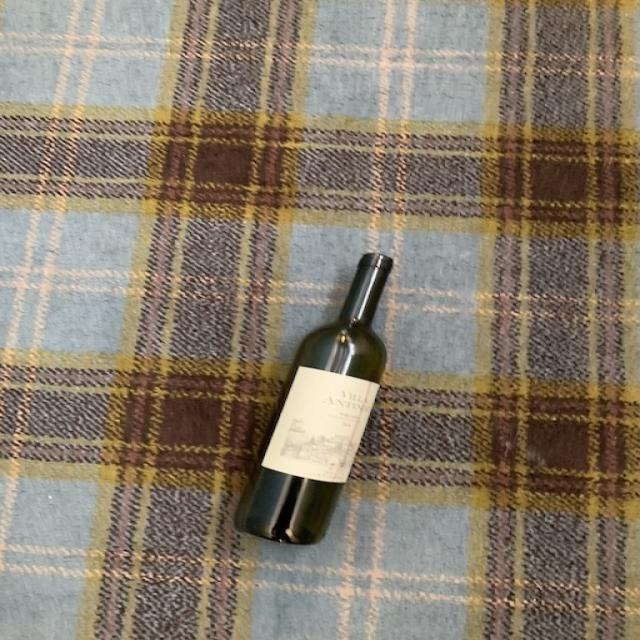litter: (232, 252, 400, 551)
